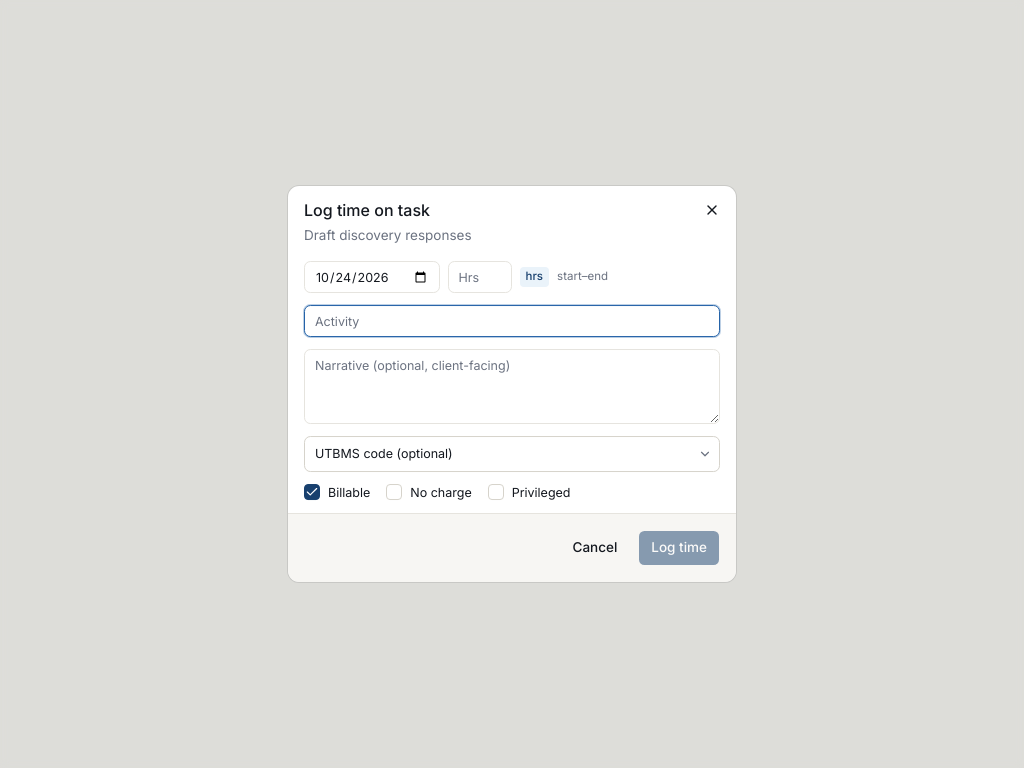
Scenario: LogTimeOnEntityDialog — close on success › stays open and surfaces field errors when the action fails
Type "0.5" into the field with placeholder "Hrs" at (480, 277), box [448,261,512,293]
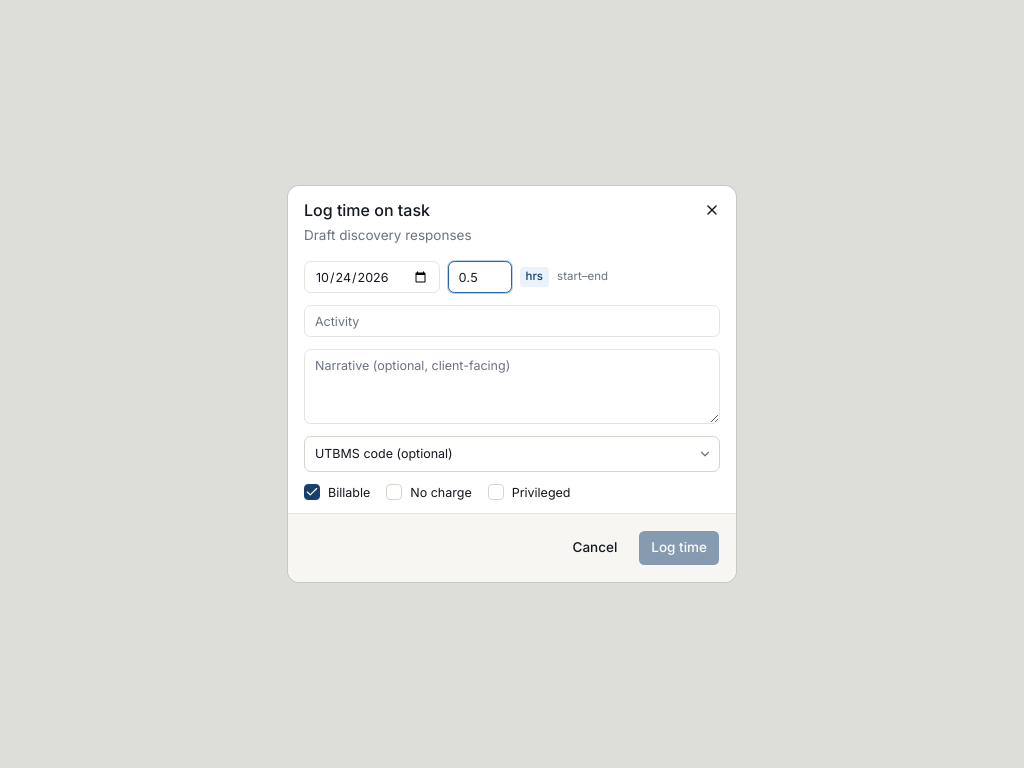
Type "Call with client" into the field with placeholder "Activity" at (512, 321), box [304,305,720,337]
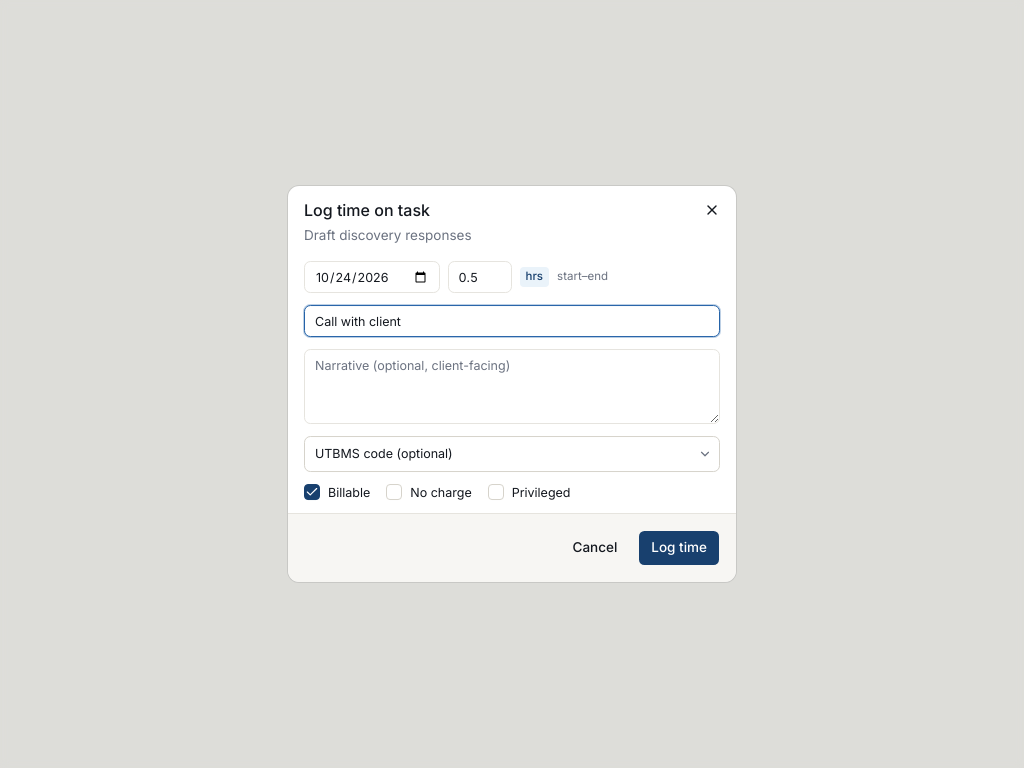
Click the button "Log time" at (679, 548), box [638,530,720,566]
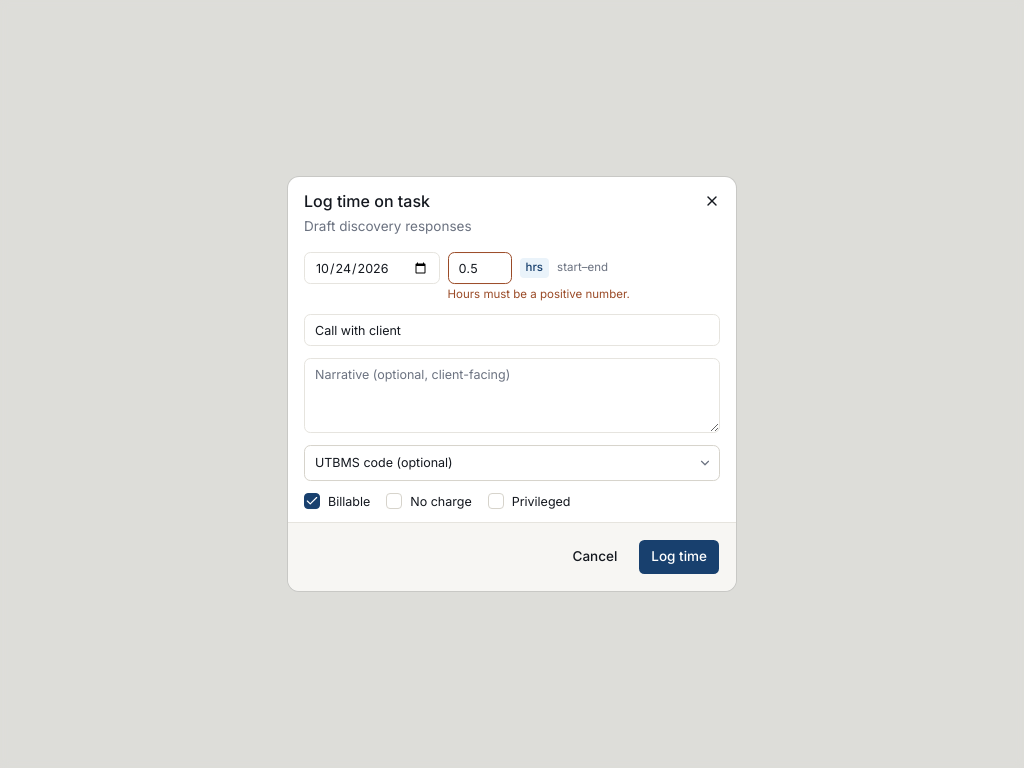
Check: the text "Hours must be a positive number." is shown, box [448,287,630,301]
